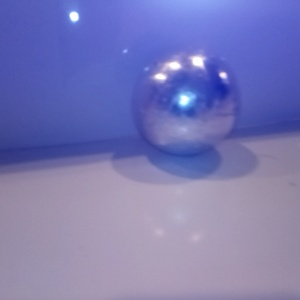alive_ball: (221, 48, 300, 176), (183, 41, 240, 99)
